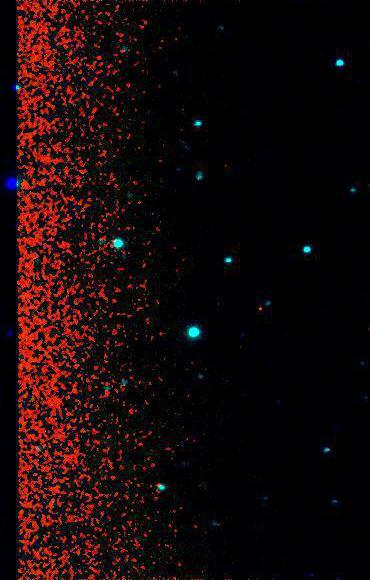star: (247, 295, 277, 325)
